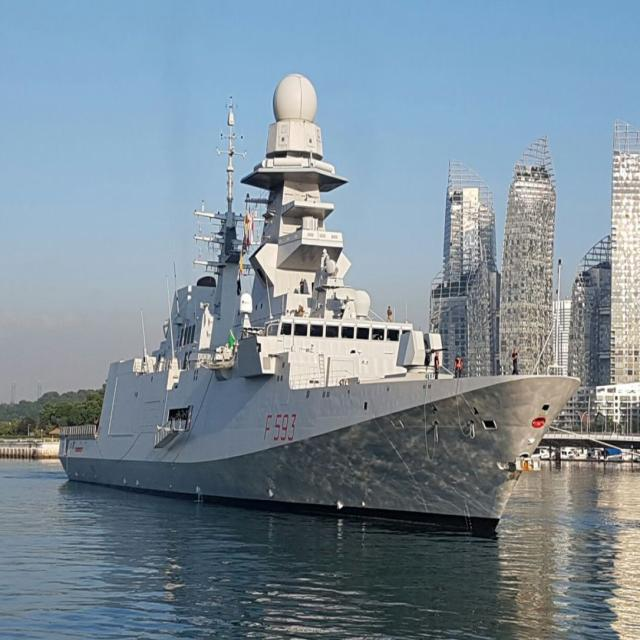Fragata: (56, 39, 587, 531)
